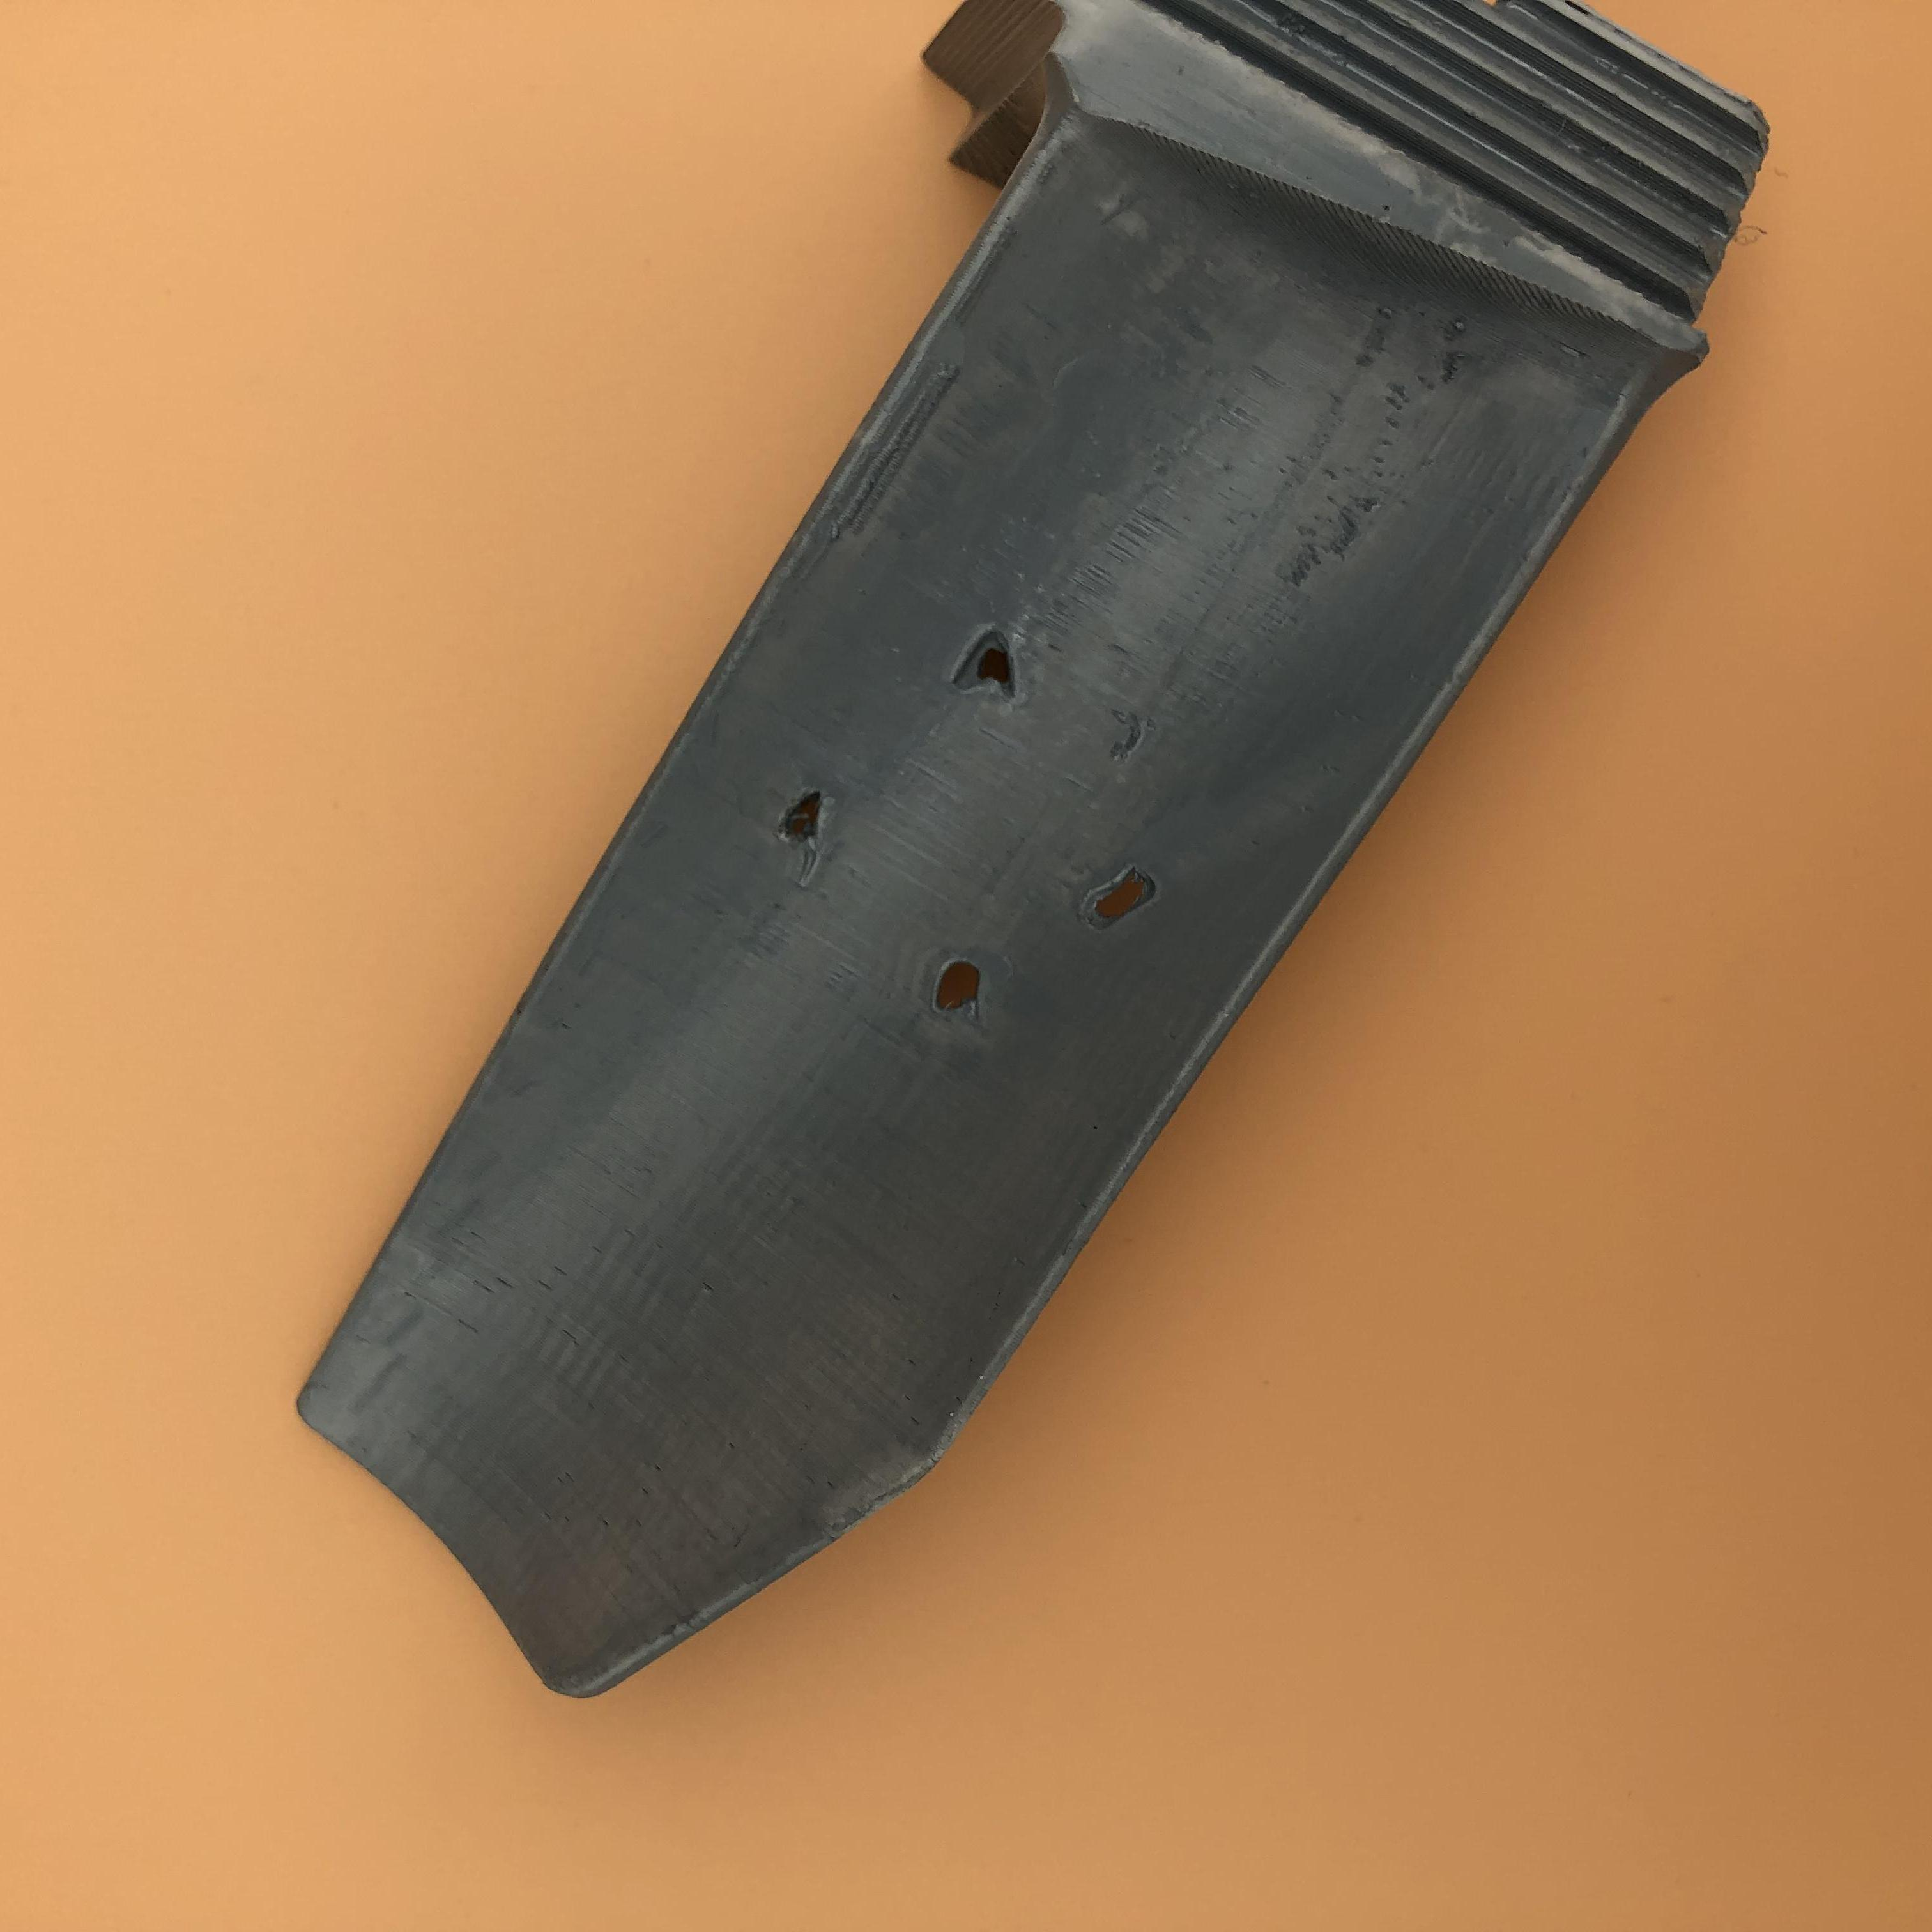breakdown: (938, 626, 1049, 706), (1088, 853, 1166, 938), (773, 791, 858, 865), (918, 945, 1005, 1016)
